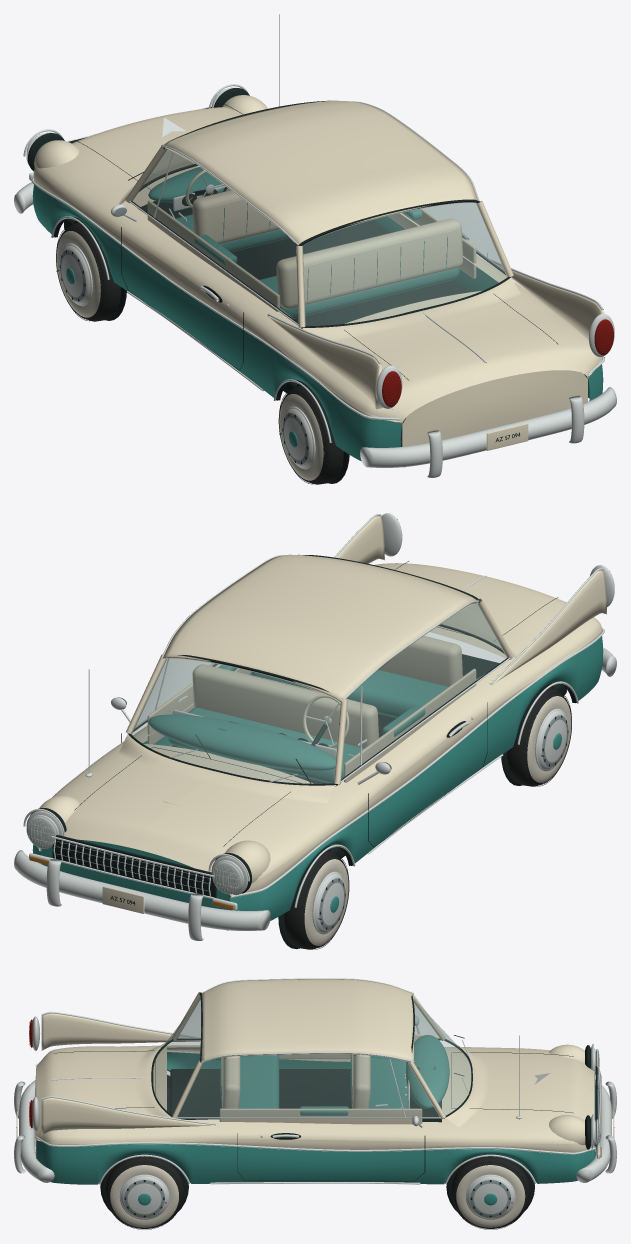
The model's file is coachwork.glb.
3 views of the same model, one above another, from view 1: azimuth 30°, elevation 25°; view 2: azimuth 150°, elevation 25°; view 3: azimuth 270°, elevation 25° (orthographic). The views are drawn at different scales.
Visible parts, largest first — view 1: Coachwork warm ivory lacquer, Coachwork curved safety glass, Coachwork ivory stitched vinyl, Coachwork polished chromium, Coachwork turquoise lacquer, Coachwork panel seals and shadows, Coachwork turquoise seat vinyl, Coachwork vulcanized tire rubber, Coachwork warm whitewall rubber, Coachwork ruby prismatic tail lens, Coachwork machined wheel recesses; view 2: Coachwork warm ivory lacquer, Coachwork curved safety glass, Coachwork polished chromium, Coachwork turquoise lacquer, Coachwork ivory stitched vinyl, Coachwork turquoise seat vinyl, Coachwork panel seals and shadows, Coachwork vulcanized tire rubber, Coachwork warm whitewall rubber, Coachwork sealed beam pressed glass, Coachwork machined wheel recesses; view 3: Coachwork warm ivory lacquer, Coachwork curved safety glass, Coachwork turquoise lacquer, Coachwork polished chromium, Coachwork panel seals and shadows, Coachwork turquoise seat vinyl, Coachwork ivory stitched vinyl, Coachwork warm whitewall rubber, Coachwork vulcanized tire rubber, Coachwork machined wheel recesses.
Boxes of the visible parts, x1,y1,x2,y2 form: Coachwork warm ivory lacquer: [33, 95, 604, 450]; Coachwork curved safety glass: [132, 148, 508, 325]; Coachwork ivory stitched vinyl: [147, 190, 476, 311]; Coachwork polished chromium: [14, 14, 616, 477]; Coachwork turquoise lacquer: [32, 184, 603, 467]; Coachwork panel seals and shadows: [28, 88, 558, 483]; Coachwork turquoise seat vinyl: [148, 167, 459, 318]; Coachwork vulcanized tire rubber: [56, 222, 343, 484]; Coachwork warm whitewall rubber: [56, 231, 324, 480]; Coachwork ruby prismatic tail lens: [382, 319, 613, 406]; Coachwork machined wheel recesses: [60, 207, 308, 464]; Coachwork warm ivory lacquer: [39, 516, 606, 913]; Coachwork curved safety glass: [130, 602, 507, 783]; Coachwork polished chromium: [14, 513, 616, 940]; Coachwork turquoise lacquer: [32, 636, 603, 930]; Coachwork ivory stitched vinyl: [147, 636, 476, 782]; Coachwork turquoise seat vinyl: [148, 665, 447, 783]; Coachwork panel seals and shadows: [30, 555, 576, 949]; Coachwork vulcanized tire rubber: [284, 687, 571, 949]; Coachwork warm whitewall rubber: [304, 696, 571, 945]; Coachwork sealed beam pressed glass: [26, 817, 241, 894]; Coachwork machined wheel recesses: [56, 697, 568, 929]; Coachwork warm ivory lacquer: [16, 979, 614, 1157]; Coachwork curved safety glass: [153, 996, 471, 1116]; Coachwork turquoise lacquer: [36, 1052, 595, 1205]; Coachwork polished chromium: [14, 978, 616, 1219]; Coachwork panel seals and shadows: [53, 993, 597, 1217]; Coachwork turquoise seat vinyl: [220, 1035, 449, 1115]; Coachwork ivory stitched vinyl: [219, 1034, 422, 1124]; Coachwork warm whitewall rubber: [110, 1165, 525, 1227]; Coachwork vulcanized tire rubber: [105, 1086, 529, 1229]; Coachwork machined wheel recesses: [124, 1071, 598, 1216].
Size of the model in its own units: 2.29 by 1.88 by 5.51.
